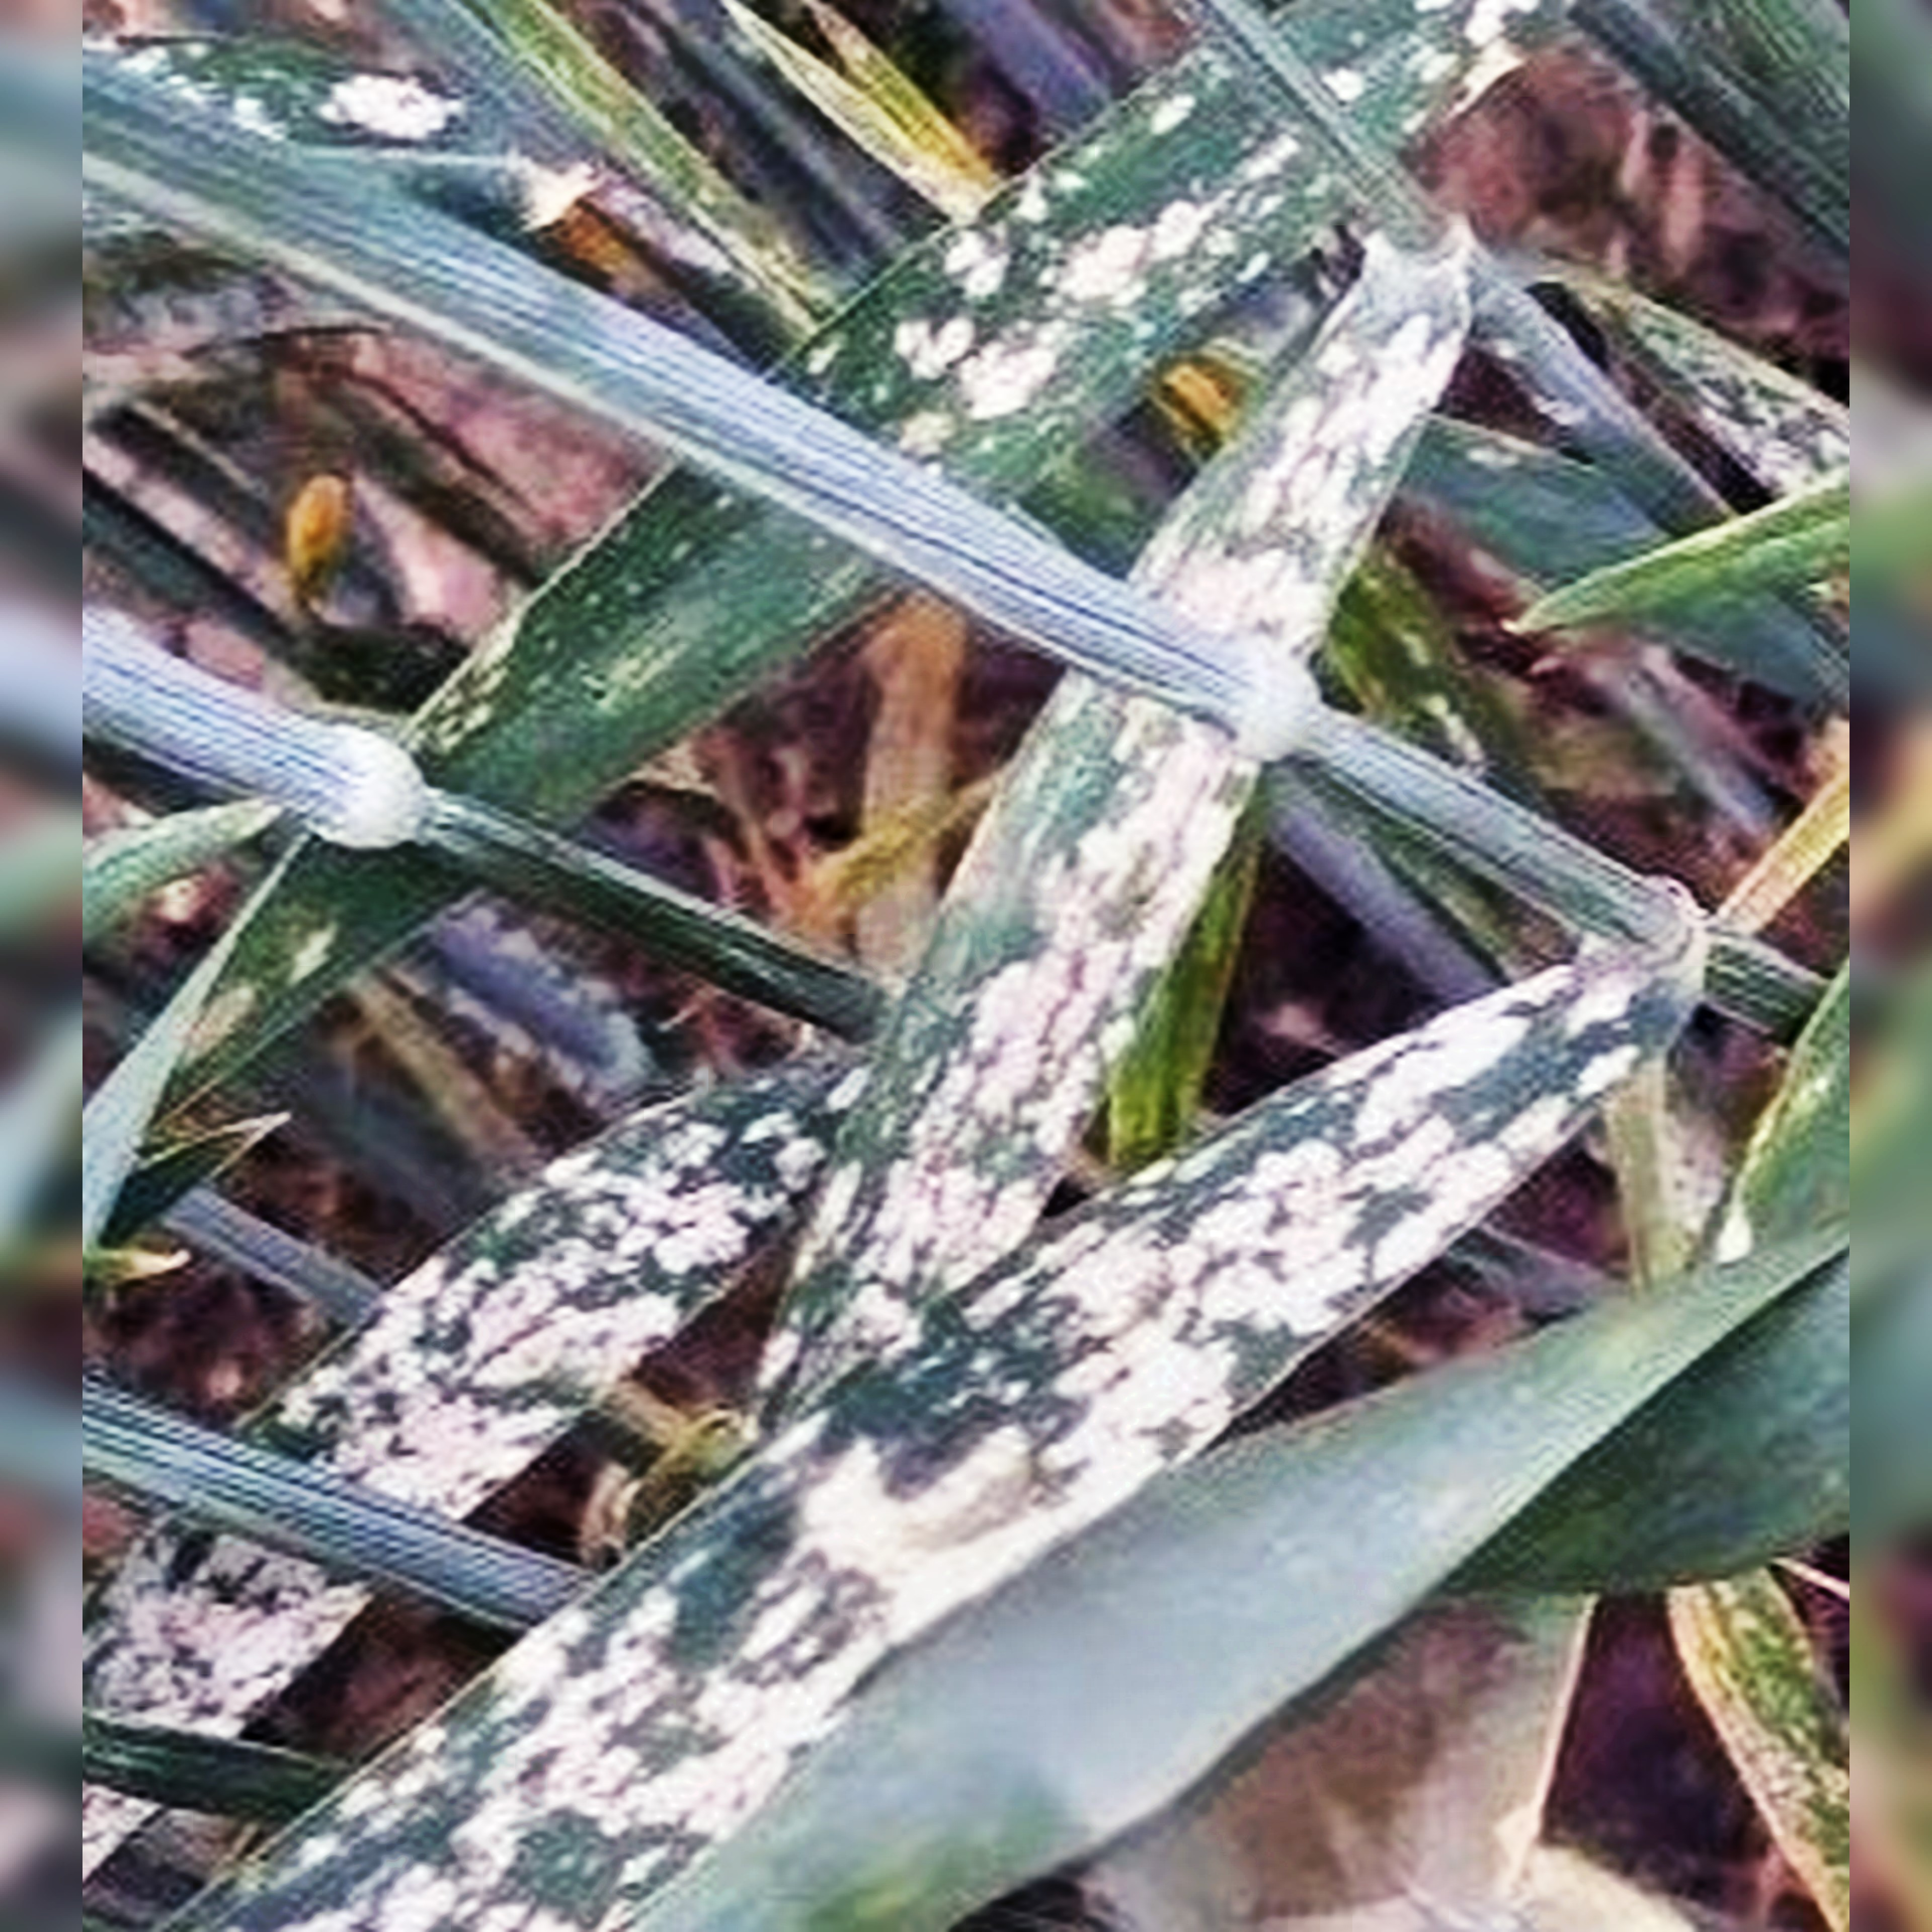Powdery Mildew: (962, 1001, 1661, 1491), (832, 30, 1435, 481), (299, 1030, 801, 1506)
